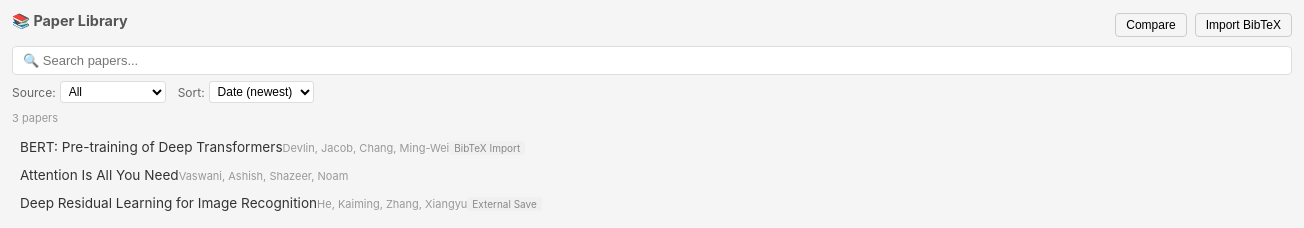
it: LibraryPanel search › shows empty state when no papers match search
Check: the text "3 papers" is shown, box [12, 111, 58, 125]
Step 1. Type "NONEXISTENT PAPER" into the field with placeholder "🔍 Search papers..." → (652, 60), box [12, 46, 1292, 75]
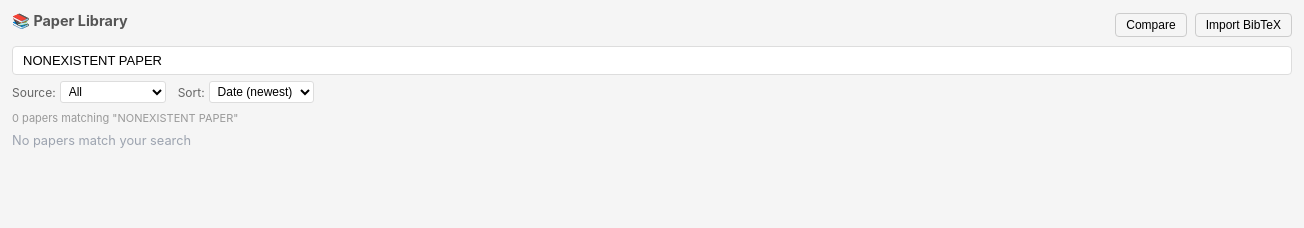
Check: the text "No papers match your search" is shown, box [12, 133, 191, 148]
